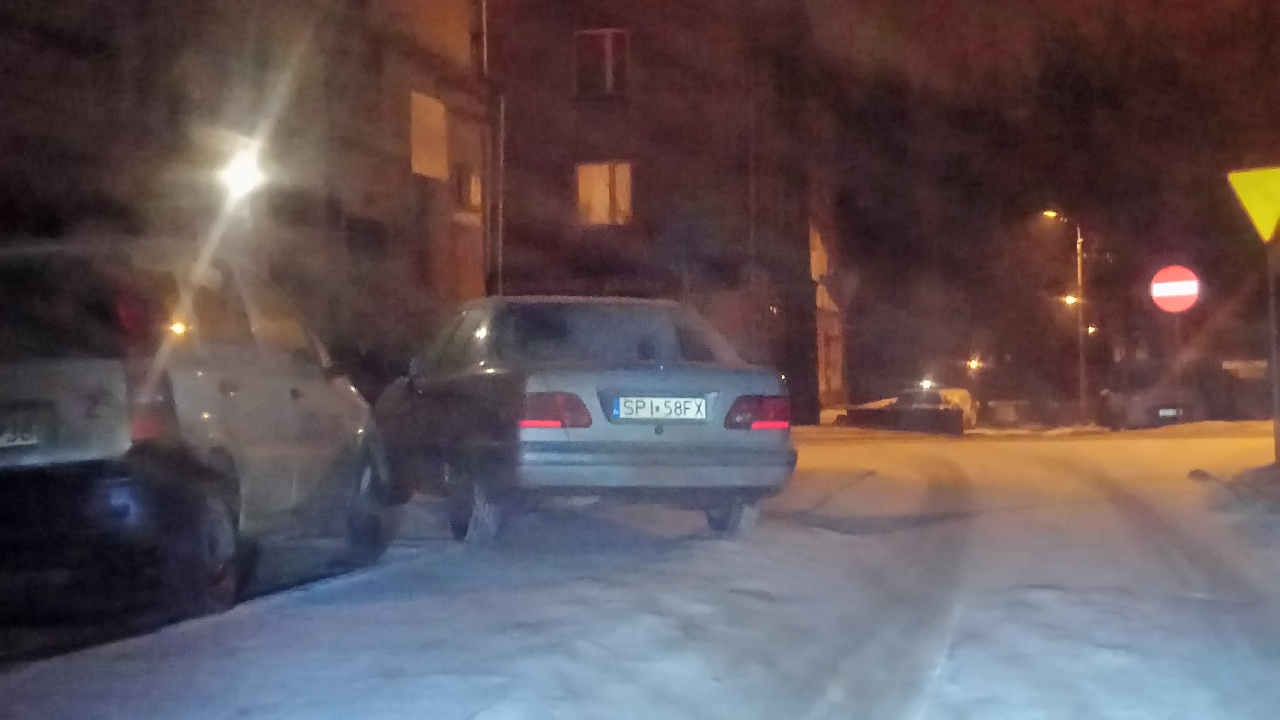A7: (1223, 159, 1280, 246)
B2: (1140, 259, 1211, 315)
